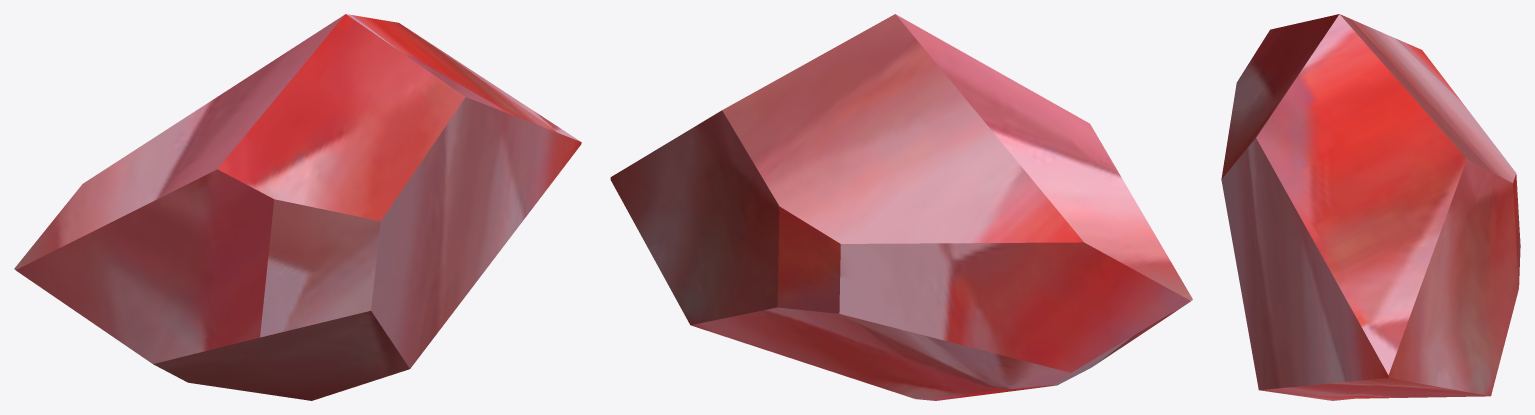
File: projectile 1.fbx
3 views of the same model, side by side, from view 1: azimuth 30°, elevation 25°; view 2: azimuth 150°, elevation 25°; view 3: azimuth 270°, elevation 25° (orthographic). The views are drawn at different scales.
Parts seen in each view (by area): view 1: Icosphere.029; view 2: Icosphere.029; view 3: Icosphere.029.
Part boxes in pixels (left/top/right/bottom): Icosphere.029: left=14, top=14, right=581, bottom=400; Icosphere.029: left=610, top=14, right=1192, bottom=400; Icosphere.029: left=1221, top=14, right=1520, bottom=400.
Bounding box in the file's own units: 37.51 × 23.61 × 15.75.
1 material, 1 textured.
